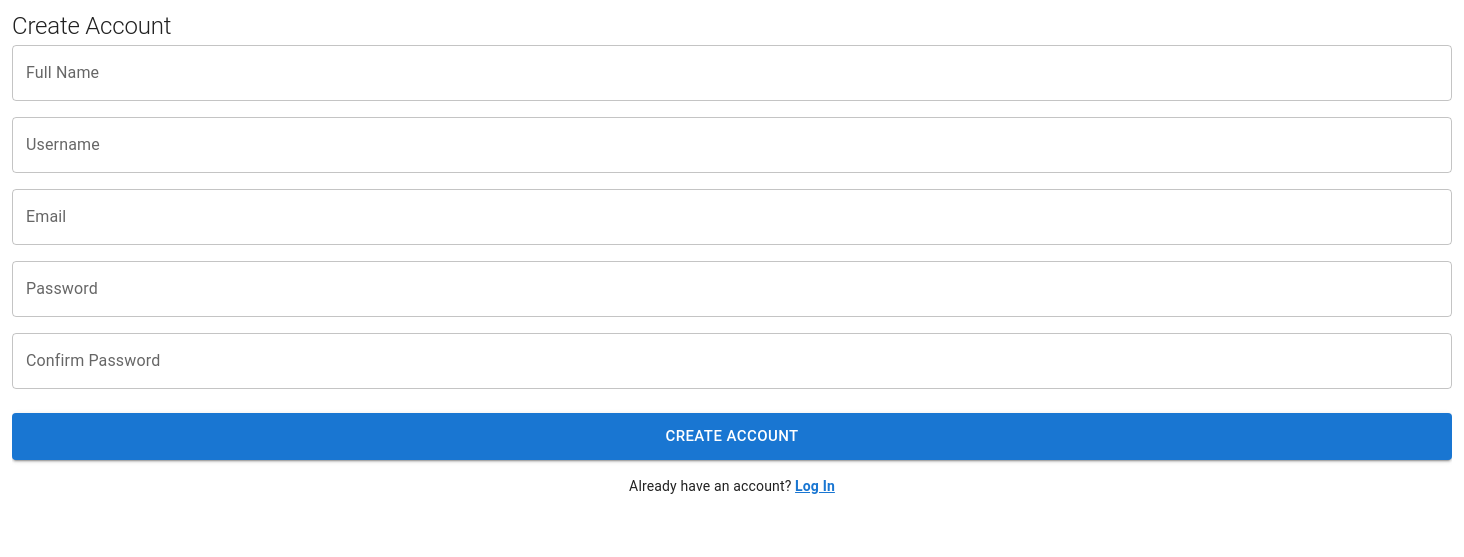
Test: RegisterPage — client-side validation › shows a password error when password is fewer than 8 characters
The width and height of the screenshot is (1464, 557).
Type "john_doe" into the field labelled "Username".
click(732, 145); type("john_doe")  # box 12,117 -> 1452,173
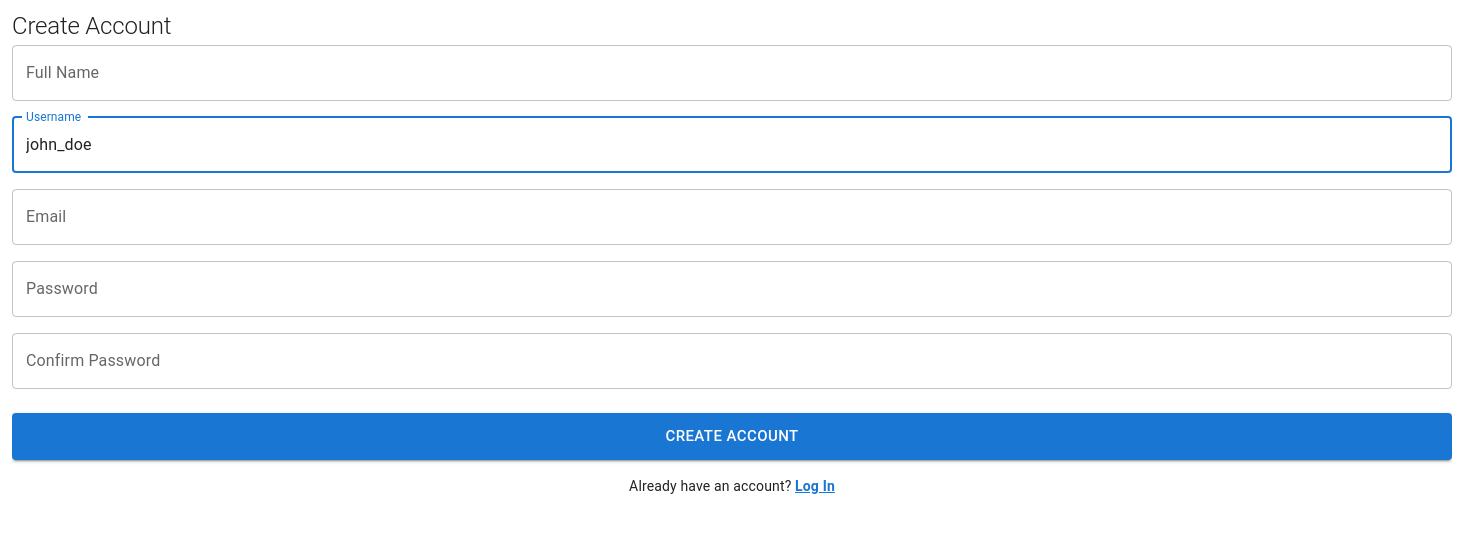
Type "john@example.com" into the field labelled "Email".
click(732, 217); type("john@example.com")  # box 12,189 -> 1452,245
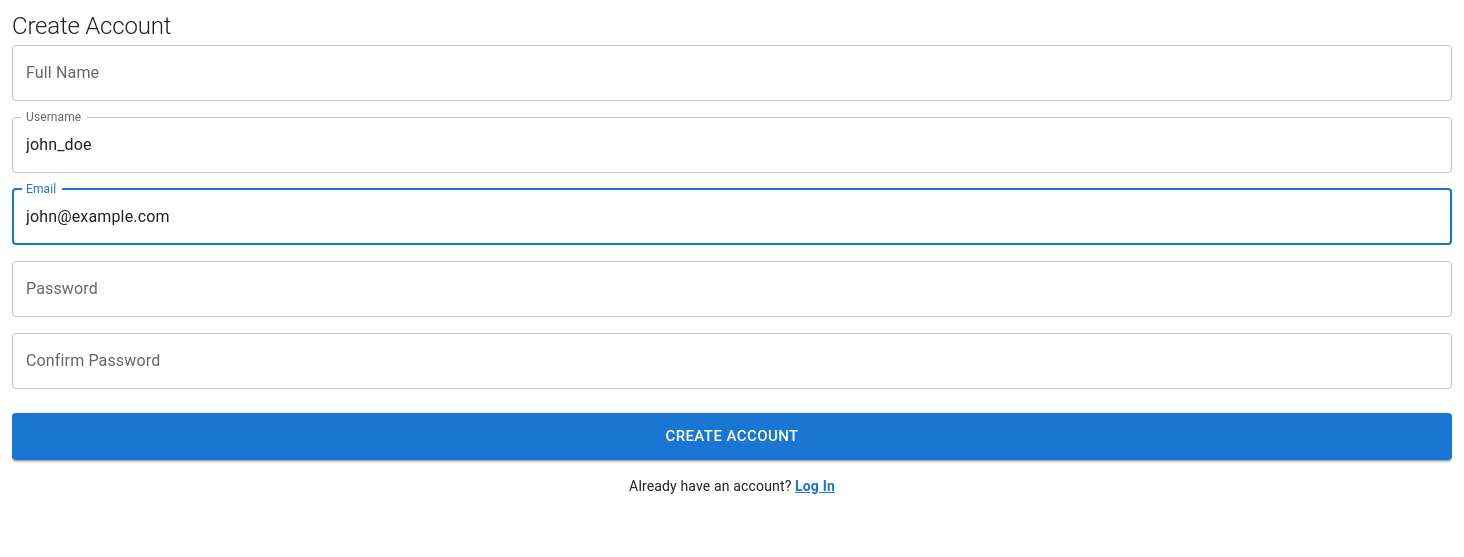
Type "short" into the password field labelled "Password".
click(732, 289); type("short")  # box 12,261 -> 1452,317
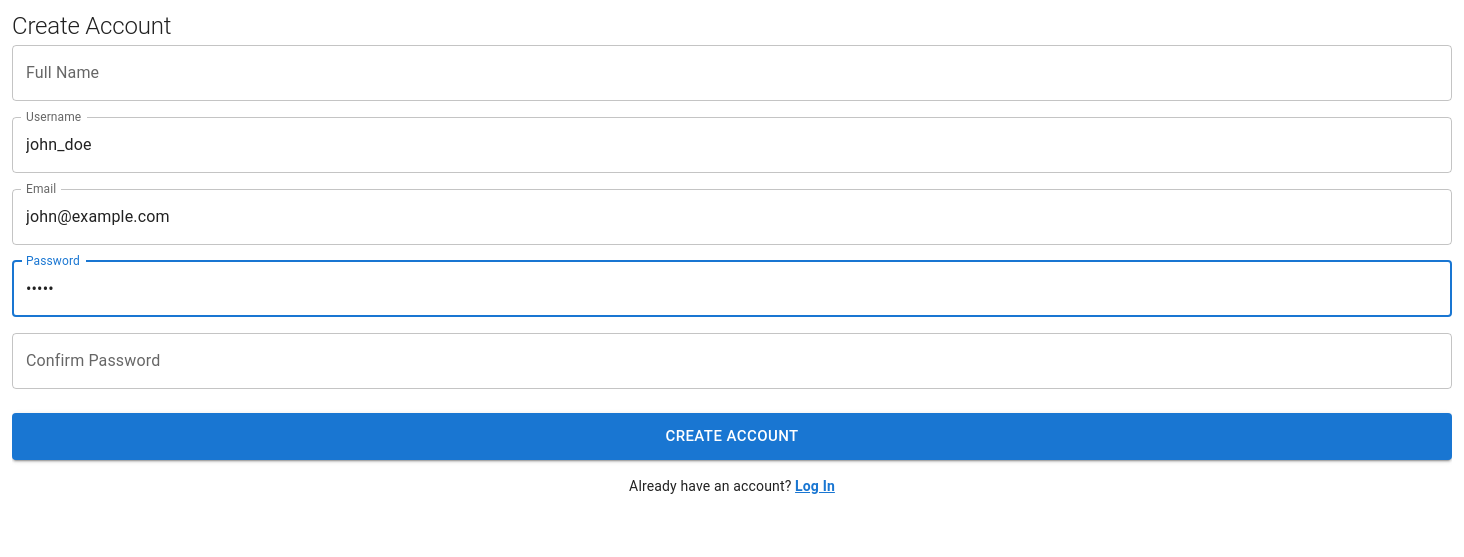
Type "short" into the password field labelled "Confirm Password".
click(732, 361); type("short")  # box 12,333 -> 1452,389
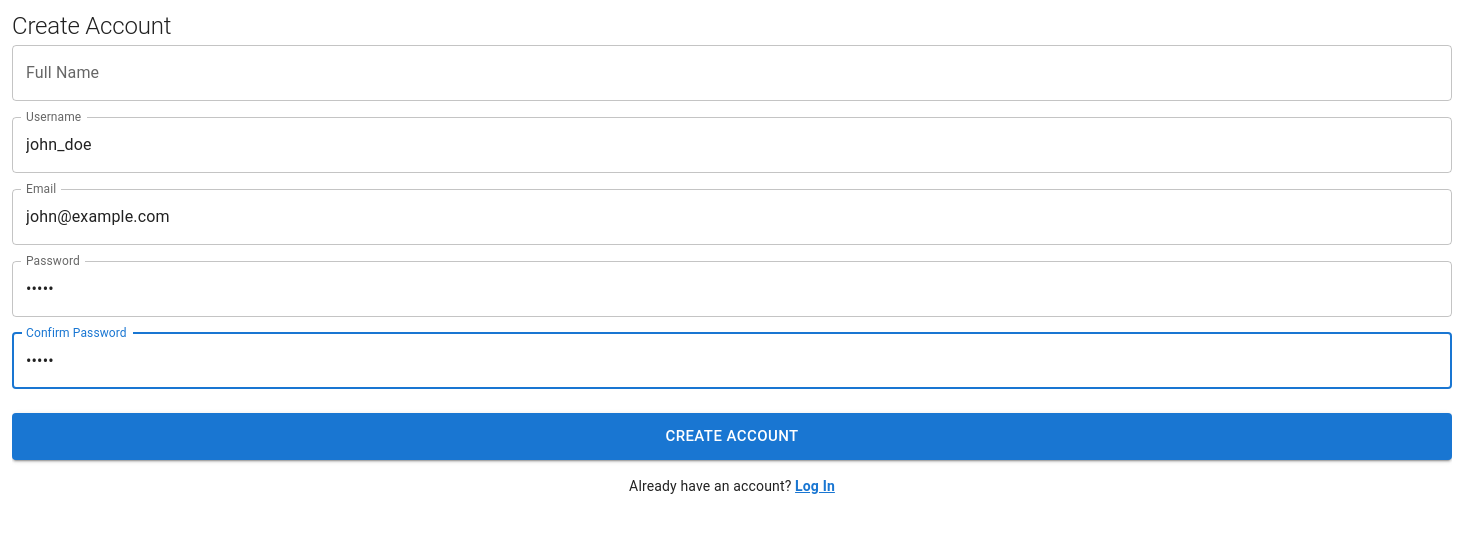
Click the button "Create Account".
click(732, 436)  # box 12,413 -> 1452,460
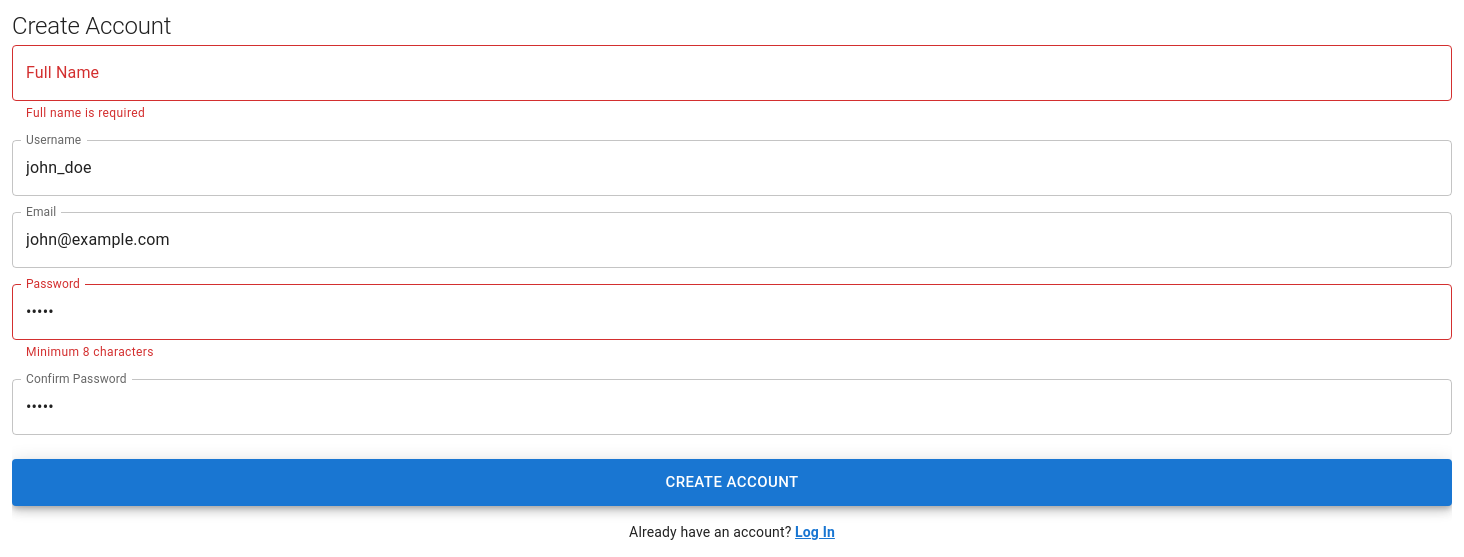
Now the text "Minimum 8 characters" is shown, box 26,345 -> 154,359
